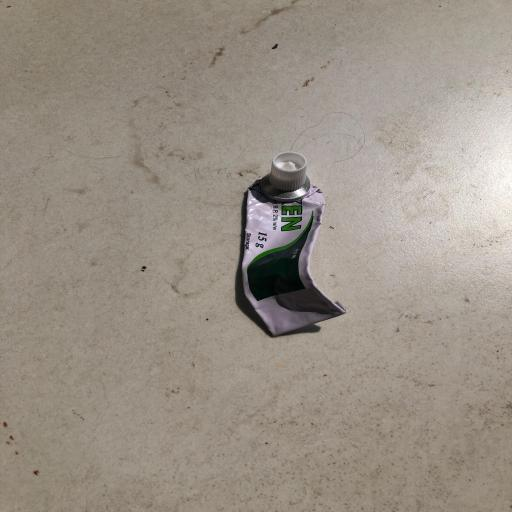waste: (230, 144, 367, 360)
